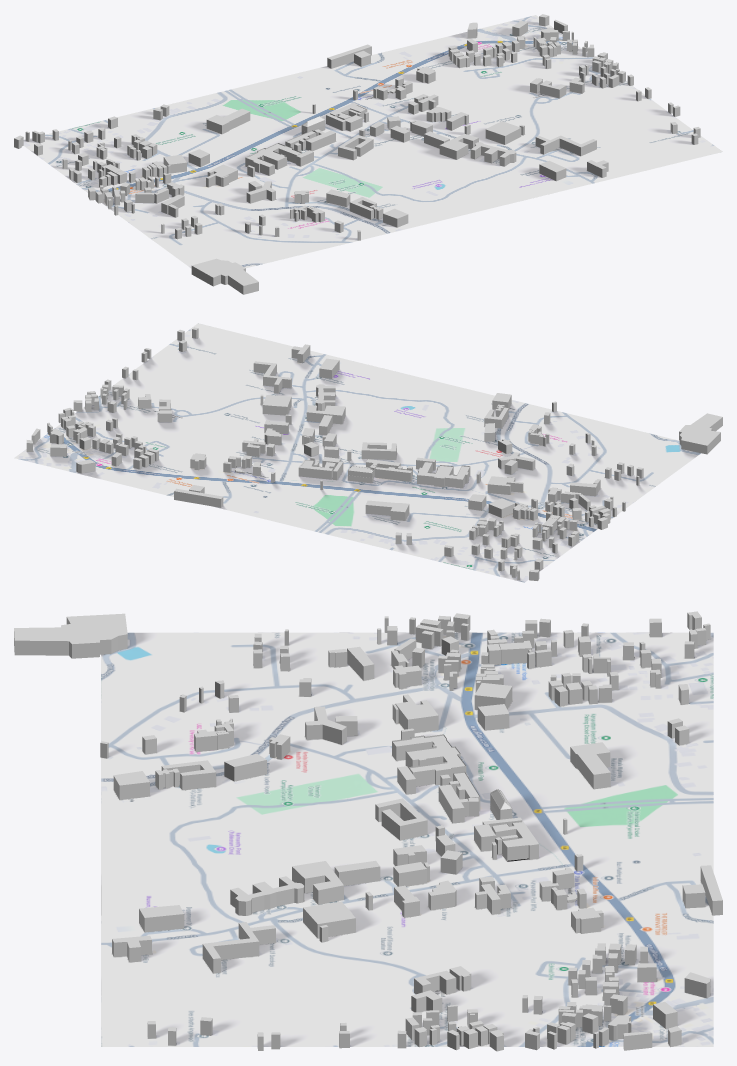
Rendered from glbbakeglb2.0.glb.
The picture shows the model from 3 angles, top to bottom: view 1: azimuth 30°, elevation 25°; view 2: azimuth 150°, elevation 25°; view 3: azimuth 270°, elevation 25°; orthographic projection. The views are drawn at different scales.
Parts seen in each view (by area): view 1: EXPORT_GOOGLE_MAP_WM, Leela building, UGC - Human Resource Development Centre, Political Science, Economics, Sociology, History, Department of Future Studies, Kerala Highway Research Institute, 798419268, 1202708224, School of Buisiness, Management & Legal Studies, 225367091, Det of Media & Journalism; view 2: EXPORT_GOOGLE_MAP_WM, Leela building, UGC - Human Resource Development Centre, Kerala Highway Research Institute, Political Science, Economics, Sociology, History, Det of Media & Journalism, School of Buisiness, Management & Legal Studies, 798419268, 225367091, Science Block II, 1202708224, 1202707782 (+1 smaller); view 3: EXPORT_GOOGLE_MAP_WM, Leela building, UGC - Human Resource Development Centre, Political Science, Economics, Sociology, History, Department of Future Studies, School of Buisiness, Management & Legal Studies, 798419268, Kerala Highway Research Institute, 1202708224, Science Block II, 225367091, Philosophy, Archeology, Islamic Studies (+13 smaller).
Boxes of the visible parts, x1,y1,x2,y2 form: EXPORT_GOOGLE_MAP_WM: (23, 15, 722, 268); Leela building: (191, 258, 258, 294); UGC - Human Resource Development Centre: (245, 143, 301, 175); Political Science, Economics, Sociology, History: (535, 135, 596, 155); Department of Future Studies: (470, 142, 516, 166); Kerala Highway Research Institute: (206, 108, 250, 134); 798419268: (439, 133, 478, 159); 1202708224: (485, 121, 521, 144); School of Buisiness, Management & Legal Studies: (338, 135, 373, 160); 225367091: (206, 164, 237, 187); Det of Media & Journalism: (327, 44, 371, 68); EXPORT_GOOGLE_MAP_WM: (14, 323, 700, 582); Leela building: (679, 413, 722, 454); UGC - Human Resource Development Centre: (417, 461, 470, 488); Kerala Highway Research Institute: (365, 500, 409, 520); Political Science, Economics, Sociology, History: (253, 361, 291, 393); Det of Media & Journalism: (174, 488, 223, 507); School of Buisiness, Management & Legal Studies: (361, 442, 396, 459); 798419268: (306, 405, 345, 424); 225367091: (487, 476, 523, 494); Science Block II: (298, 459, 335, 479); 1202708224: (262, 395, 291, 415); 1202707782: (375, 466, 412, 481); EXPORT_GOOGLE_MAP_WM: (101, 632, 713, 1046); Leela building: (14, 613, 127, 658); UGC - Human Resource Development Centre: (392, 734, 466, 786); Political Science, Economics, Sociology, History: (202, 922, 275, 973); Department of Future Studies: (230, 876, 304, 915); School of Buisiness, Management & Legal Studies: (375, 798, 427, 840); 798419268: (292, 861, 343, 904); Kerala Highway Research Institute: (570, 742, 610, 789); 1202708224: (303, 901, 355, 938); Science Block II: (492, 821, 538, 861); 225367091: (395, 694, 438, 732); Philosophy, Archeology, Islamic Studies: (139, 905, 184, 932).
Size of the model in its own units: 1257 by 31.2 by 885.
3 materials, 1 textured.
